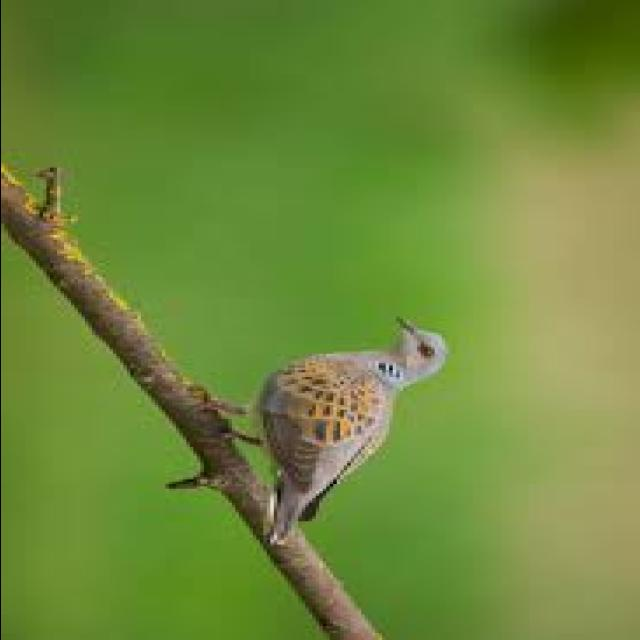pigeon: (218, 312, 450, 534)
